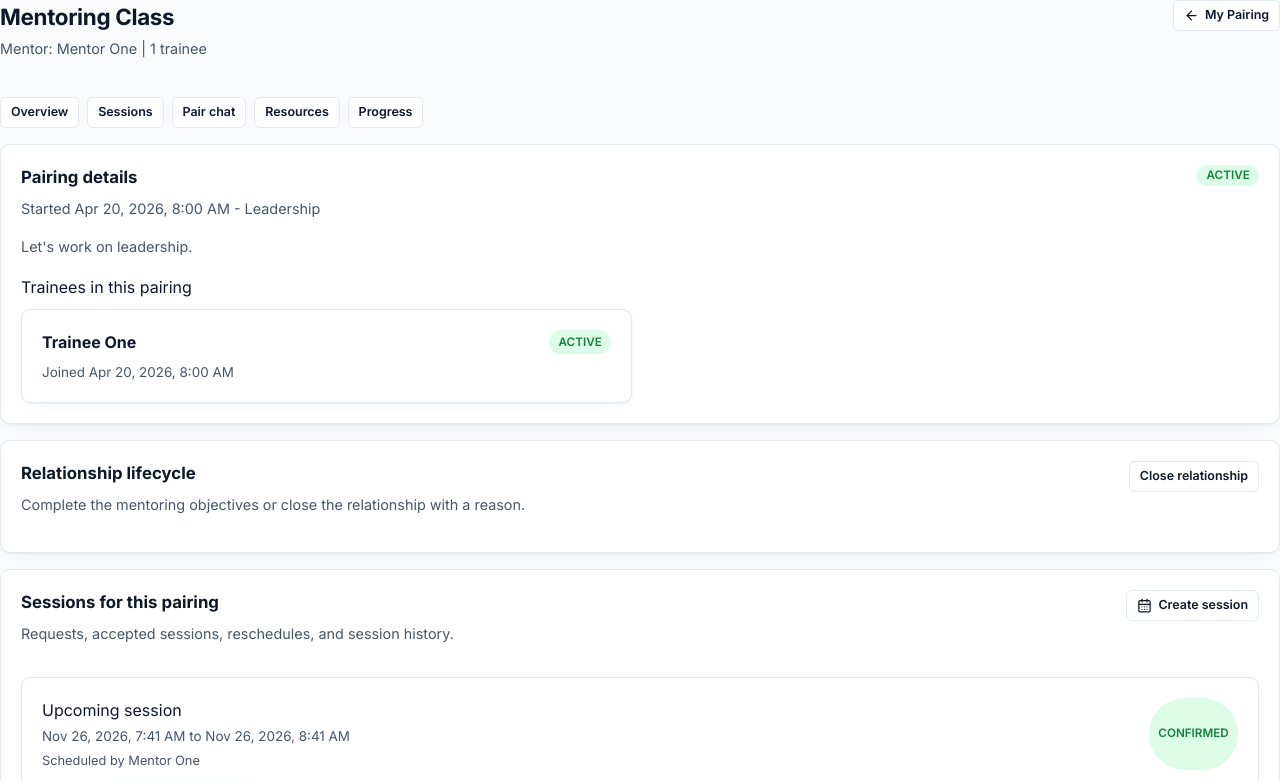
Test: MentoringPairingDetailPage › blocks pairing completion while a confirmed session remains
The width and height of the screenshot is (1280, 781).
Step 1. Click the button "Close relationship" → x=1194, y=476, box [1129,461,1259,492]
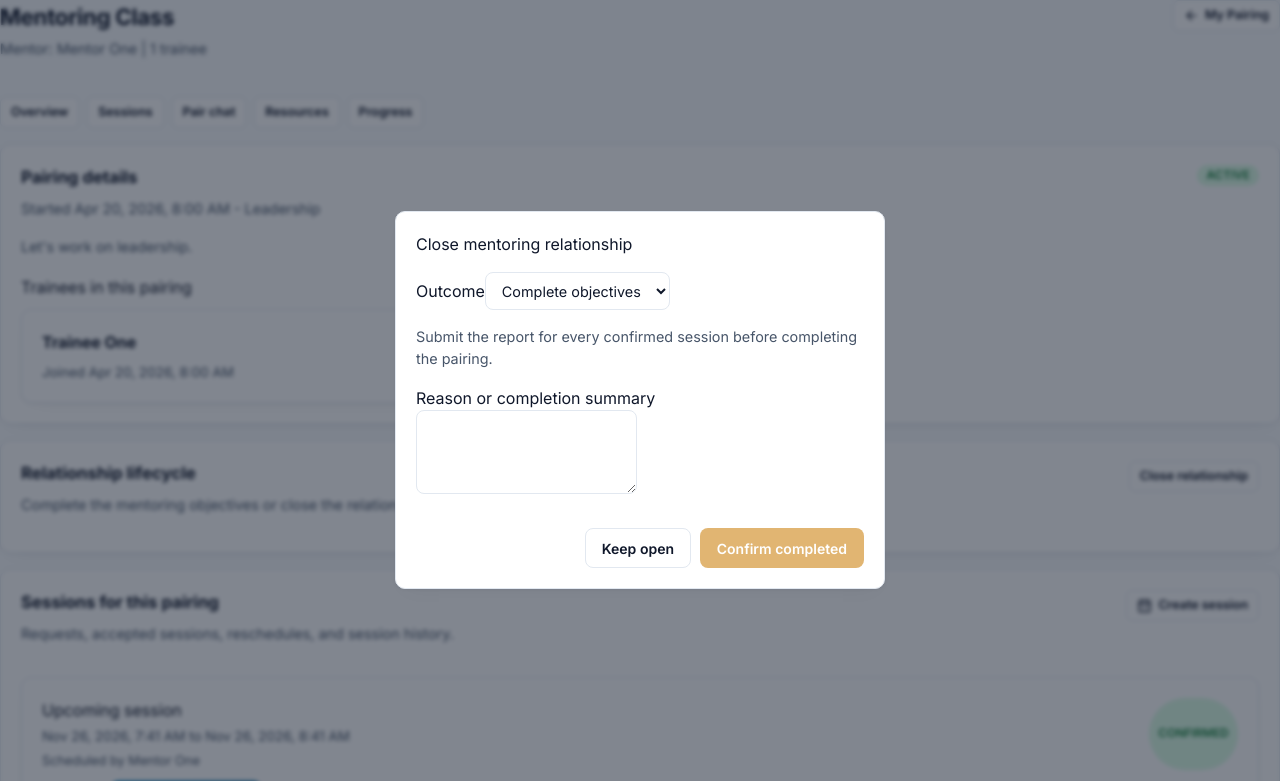
Expected: the text "Submit the report for every confirmed session before completing the pairing." is shown, [416,326,864,370]
